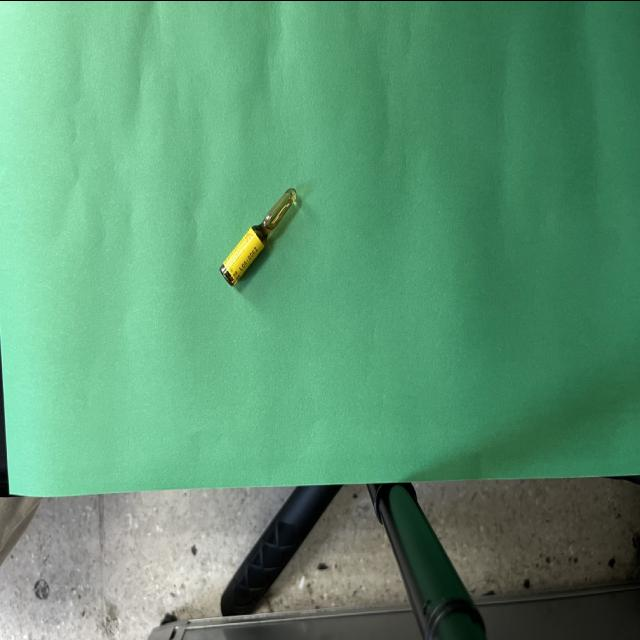Ampoules: (220, 188, 297, 285)
